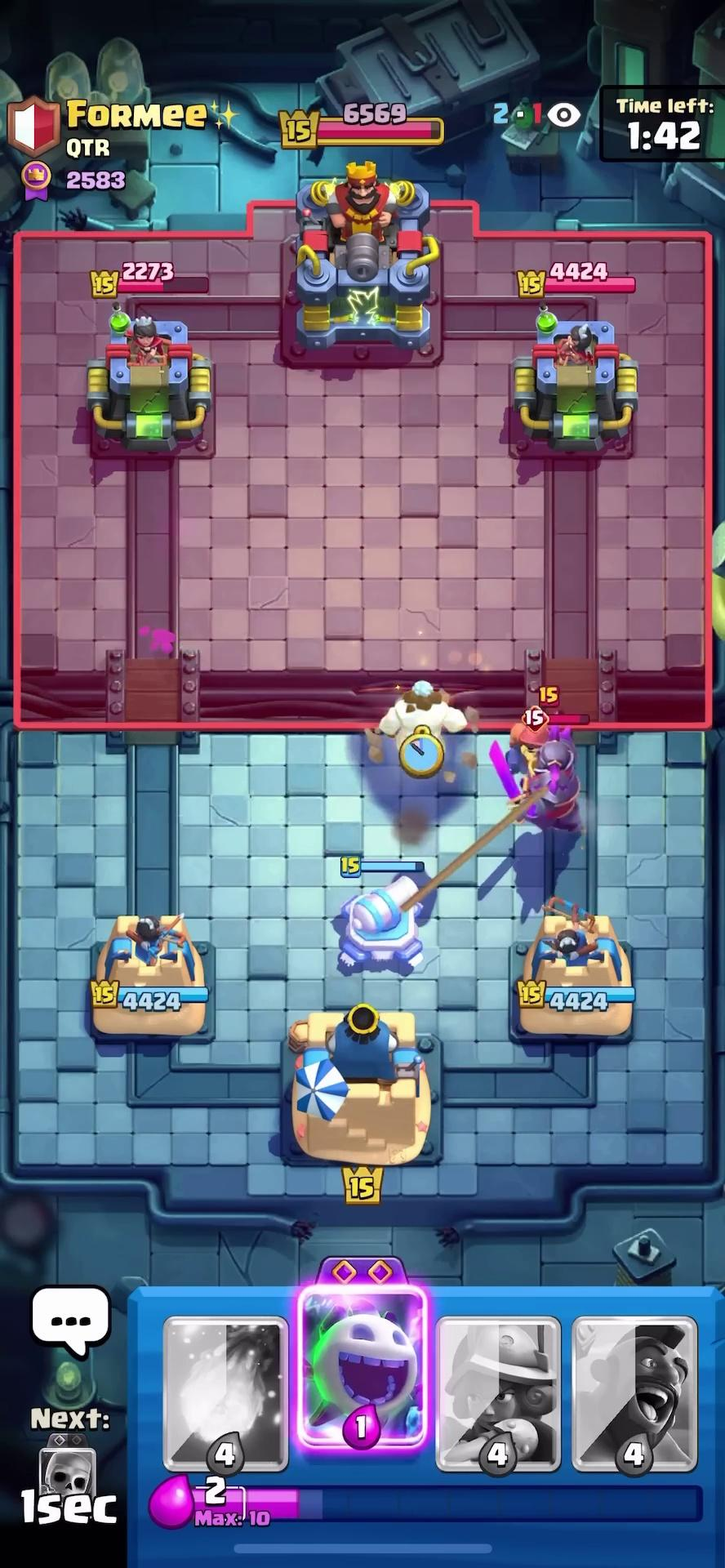cannon: (320, 855, 437, 962)
ice_golem: (374, 657, 469, 768)
